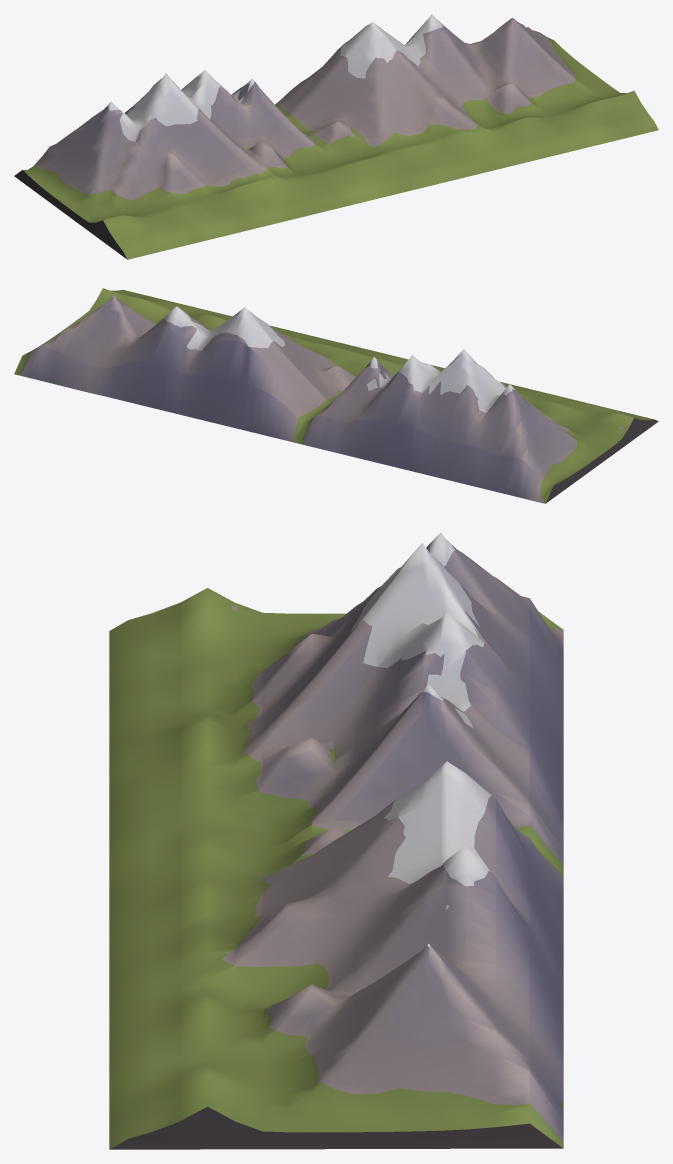
File: MountainRange2.fbx
3 views of the same model, one above another, from view 1: azimuth 30°, elevation 25°; view 2: azimuth 150°, elevation 25°; view 3: azimuth 270°, elevation 25° (orthographic). The views are drawn at different scales.
Visible parts, largest first — view 1: MountainRange2; view 2: MountainRange2; view 3: MountainRange2.
Boxes of the visible parts, <box> form: MountainRange2: <box>14,14,658,259</box>; MountainRange2: <box>14,288,658,503</box>; MountainRange2: <box>109,532,563,1149</box>.
Bounding box in the file's own units: 400 × 72.84 × 148.
